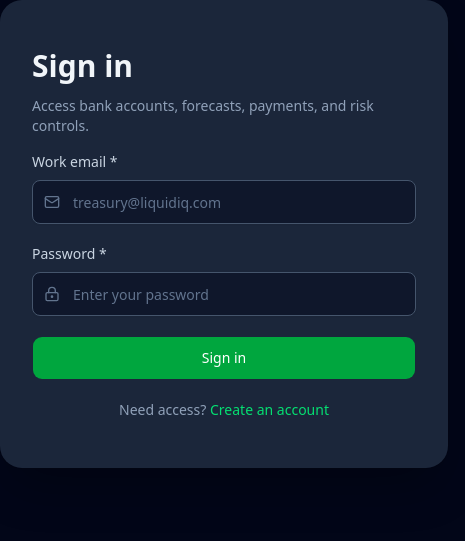
Test: LoginForm › shows client-side validation errors for empty submission
Click the button "Sign in".
click(224, 358)  # box top-left (32, 336), bottom-right (416, 380)
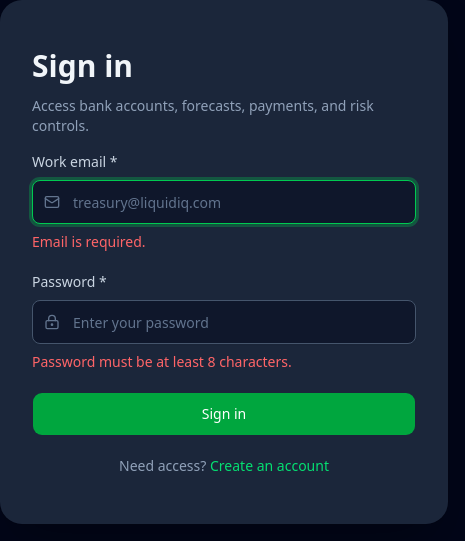
Expected: the text "Email is required." is shown, top-left (32, 232), bottom-right (146, 251)
Expected: the text "Password must be at least 8 characters." is shown, top-left (32, 352), bottom-right (292, 371)
